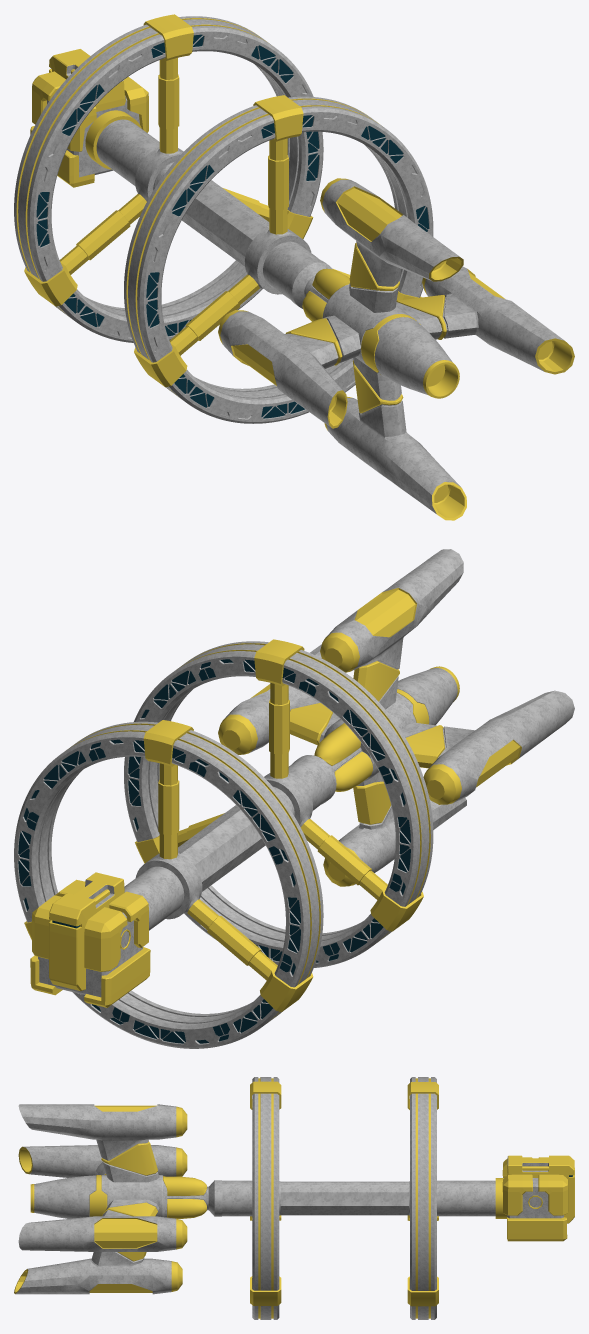
File: Main_spaceship_1.fbx
3 renders of one model, top to bottom at view 1: azimuth 30°, elevation 25°; view 2: azimuth 150°, elevation 25°; view 3: azimuth 270°, elevation 25°, orthographic. The views are drawn at different scales.
Parts seen in each view (by area): view 1: ME_Rotator_Quaters2, ME_Rotator_Quaters, ME_MainShip_Join, ME_MainShip_engine, ME_MainShip_engine.002, ME_MainShip_engine.003, ME_Rotator_handler, ME_MainShip_engine.001, ME_Main_ship_Rotator_handler, ME_Main_Bridge; view 2: ME_Rotator_Quaters, ME_Rotator_Quaters2, ME_MainShip_Join, ME_Main_Bridge, ME_MainShip_engine, ME_MainShip_engine.002, ME_Main_ship_Rotator_handler, ME_Rotator_handler, ME_MainShip_engine.003, ME_MainShip_engine.001; view 3: ME_MainShip_Join, ME_MainShip_engine, ME_MainShip_engine.001, ME_Rotator_Quaters2, ME_Main_Bridge, ME_Rotator_Quaters, ME_MainShip_engine.003, ME_MainShip_engine.002, ME_Main_ship_Rotator_handler, ME_Rotator_handler.
Boxes of the visible parts, x1=… form: ME_Rotator_Quaters2: x1=124, y1=96, x2=433, y2=423; ME_Rotator_Quaters: x1=14, y1=16, x2=323, y2=342; ME_MainShip_Join: x1=85, y1=110, x2=459, y2=398; ME_MainShip_engine: x1=320, y1=178, x2=463, y2=312; ME_MainShip_engine.002: x1=218, y1=310, x2=360, y2=428; ME_MainShip_engine.003: x1=324, y1=357, x2=466, y2=520; ME_Rotator_handler: x1=24, y1=14, x2=313, y2=306; ME_MainShip_engine.001: x1=396, y1=266, x2=574, y2=374; ME_Main_ship_Rotator_handler: x1=134, y1=95, x2=421, y2=387; ME_Main_Bridge: x1=30, y1=49, x2=148, y2=187; ME_Rotator_Quaters: x1=14, y1=721, x2=323, y2=1048; ME_Rotator_Quaters2: x1=124, y1=641, x2=433, y2=967; ME_MainShip_Join: x1=124, y1=666, x2=459, y2=930; ME_Main_Bridge: x1=30, y1=872, x2=150, y2=1007; ME_MainShip_engine: x1=320, y1=549, x2=463, y2=709; ME_MainShip_engine.002: x1=401, y1=690, x2=574, y2=804; ME_Main_ship_Rotator_handler: x1=135, y1=639, x2=423, y2=931; ME_Rotator_handler: x1=24, y1=720, x2=313, y2=1012; ME_MainShip_engine.003: x1=323, y1=772, x2=466, y2=886; ME_MainShip_engine.001: x1=218, y1=644, x2=339, y2=754; ME_MainShip_Join: x1=30, y1=1175, x2=506, y2=1218; ME_MainShip_engine: x1=18, y1=1104, x2=187, y2=1182; ME_MainShip_engine.001: x1=18, y1=1199, x2=187, y2=1251; ME_Rotator_Quaters2: x1=252, y1=1077, x2=279, y2=1319; ME_Main_Bridge: x1=502, y1=1155, x2=574, y2=1241; ME_Rotator_Quaters: x1=410, y1=1077, x2=436, y2=1319; ME_MainShip_engine.003: x1=14, y1=1252, x2=182, y2=1294; ME_MainShip_engine.002: x1=18, y1=1145, x2=187, y2=1177; ME_Main_ship_Rotator_handler: x1=250, y1=1081, x2=281, y2=1305; ME_Rotator_handler: x1=407, y1=1082, x2=438, y2=1306.
Size of the model in its own units: 10800 by 10895 by 24945.
